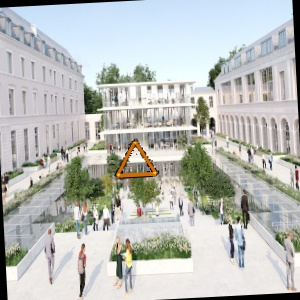triangle: (114, 137, 161, 180)
